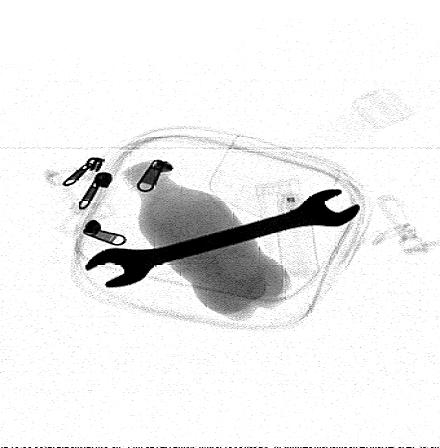Wrench: (86, 187, 360, 288)
